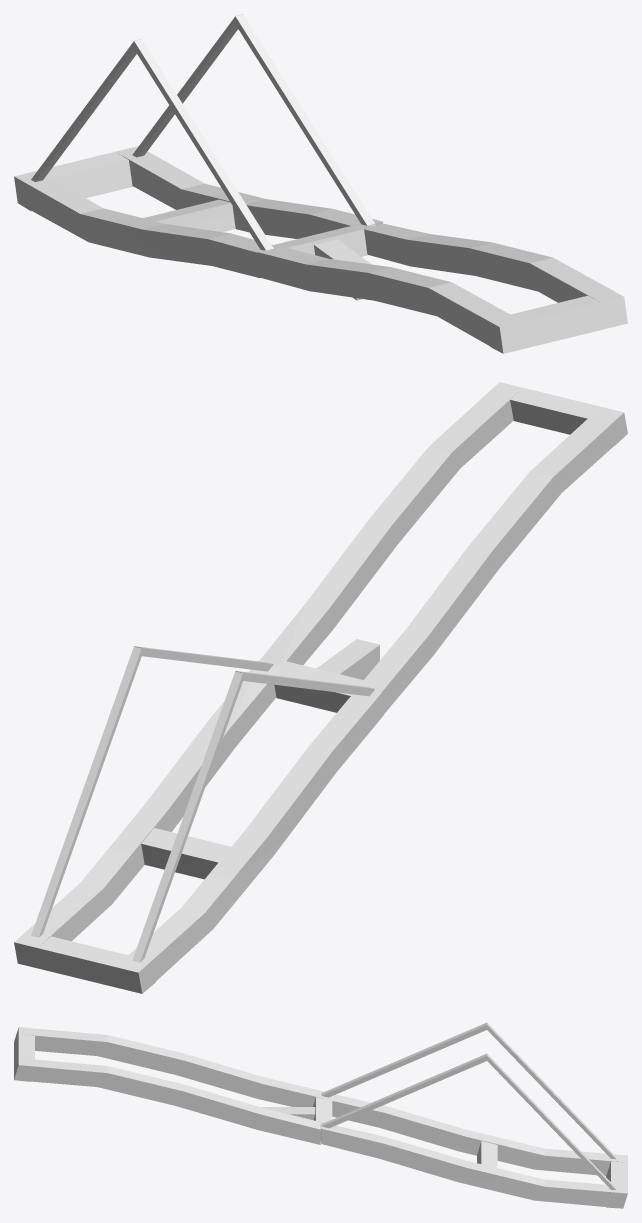
The model's file is Centre0.obj.
The picture shows the model from 3 angles, top to bottom: view 1: azimuth 30°, elevation 25°; view 2: azimuth 150°, elevation 25°; view 3: azimuth 270°, elevation 25°; orthographic projection. The views are drawn at different scales.
Bounding box in the file's own units: 0.9987 × 1.84 × 6.8.
